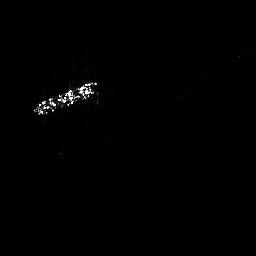ship: (33, 80, 100, 116)
